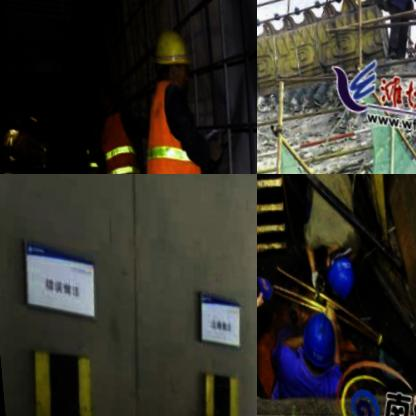helmet: (146, 20, 198, 94), (288, 305, 336, 372), (314, 244, 357, 300), (92, 85, 118, 120)
